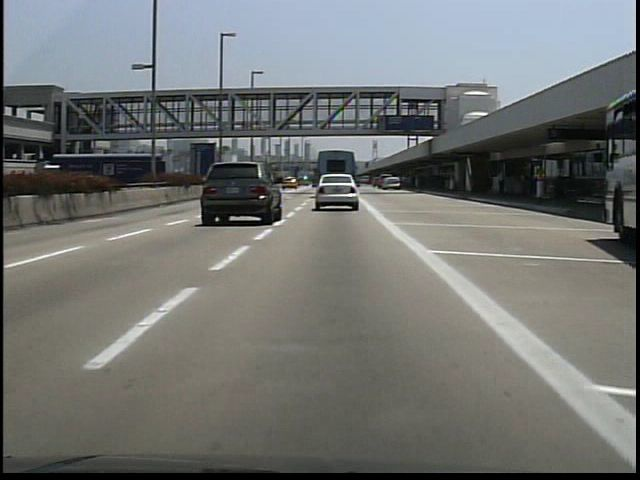person: (491, 167, 512, 204)
